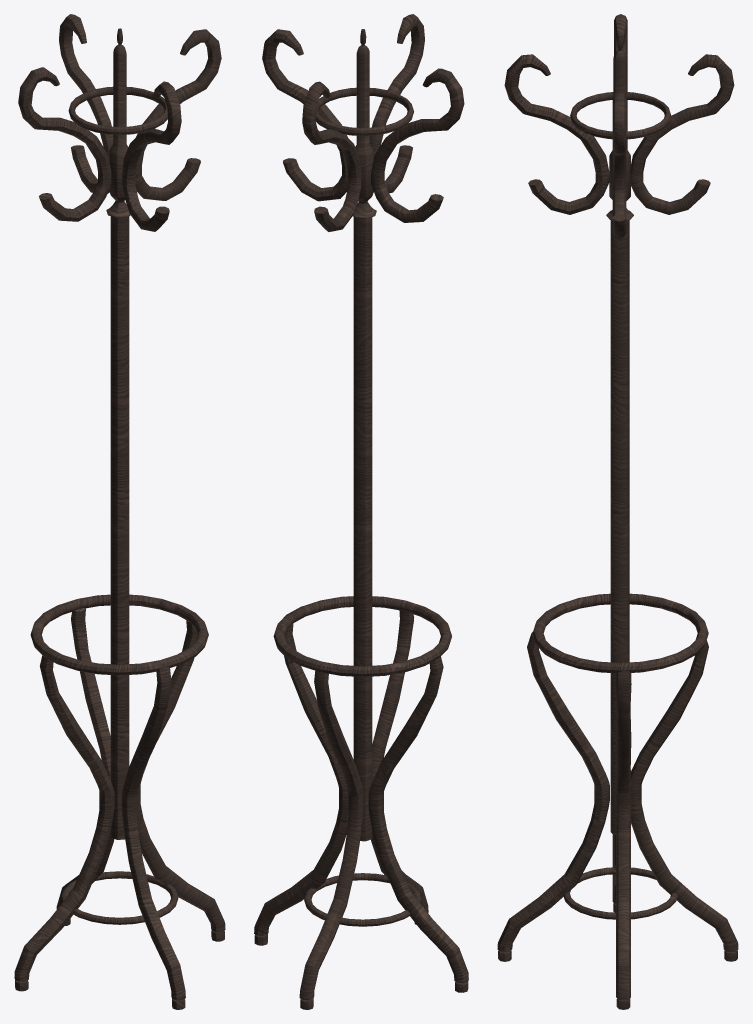
Rendered from portemanteau.glb.
3 views of the same model, side by side, from view 1: azimuth 30°, elevation 25°; view 2: azimuth 150°, elevation 25°; view 3: azimuth 270°, elevation 25° (orthographic).
Visible parts, largest first — view 1: portemanteau; view 2: portemanteau; view 3: portemanteau.
Part boxes in pixels (left/top/right/bottom): portemanteau: left=14, top=14, right=225, bottom=1009; portemanteau: left=254, top=14, right=468, bottom=1009; portemanteau: left=497, top=14, right=738, bottom=1009.
Bounding box in the file's own units: 0.4117 × 1.74 × 0.4117.
1 material, 1 textured.
